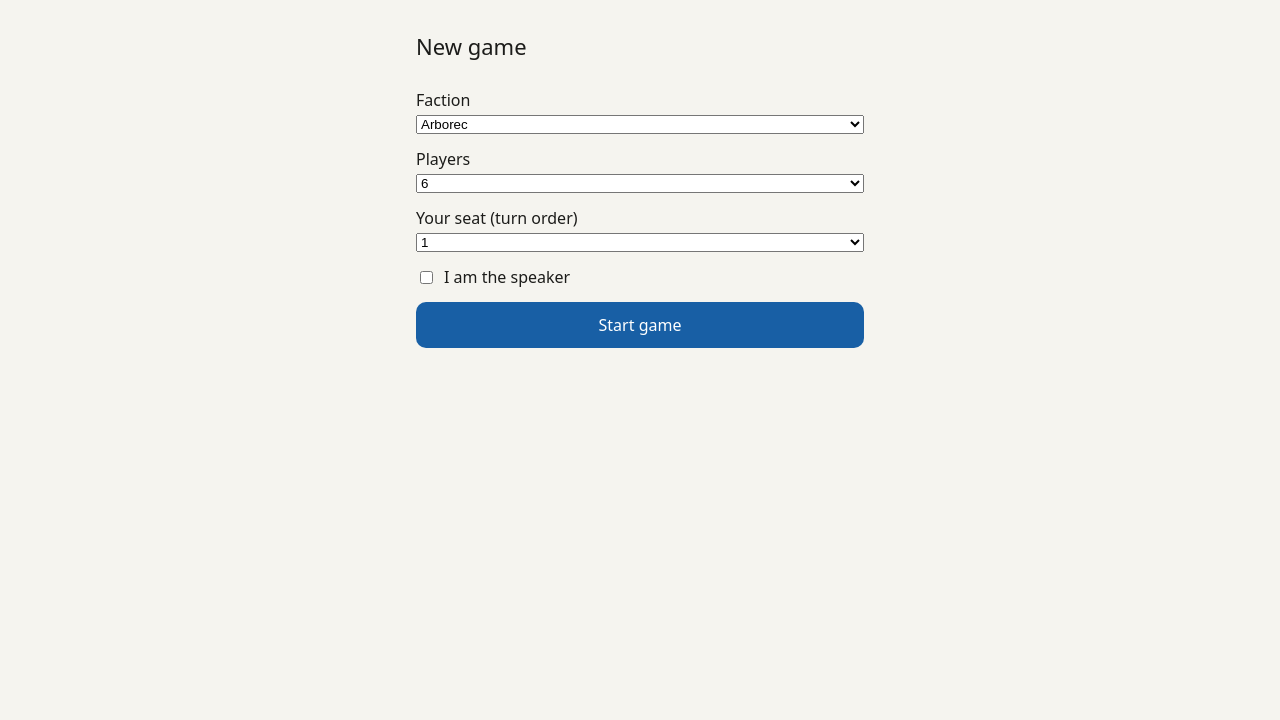
it: App › starts a game from setup and lands in the strategy phase
The width and height of the screenshot is (1280, 720).
What coordinates should you click on to do the following:
click the button "Start game"
I would click on:
 (640, 326)
Its box is 416,302 -> 864,348.
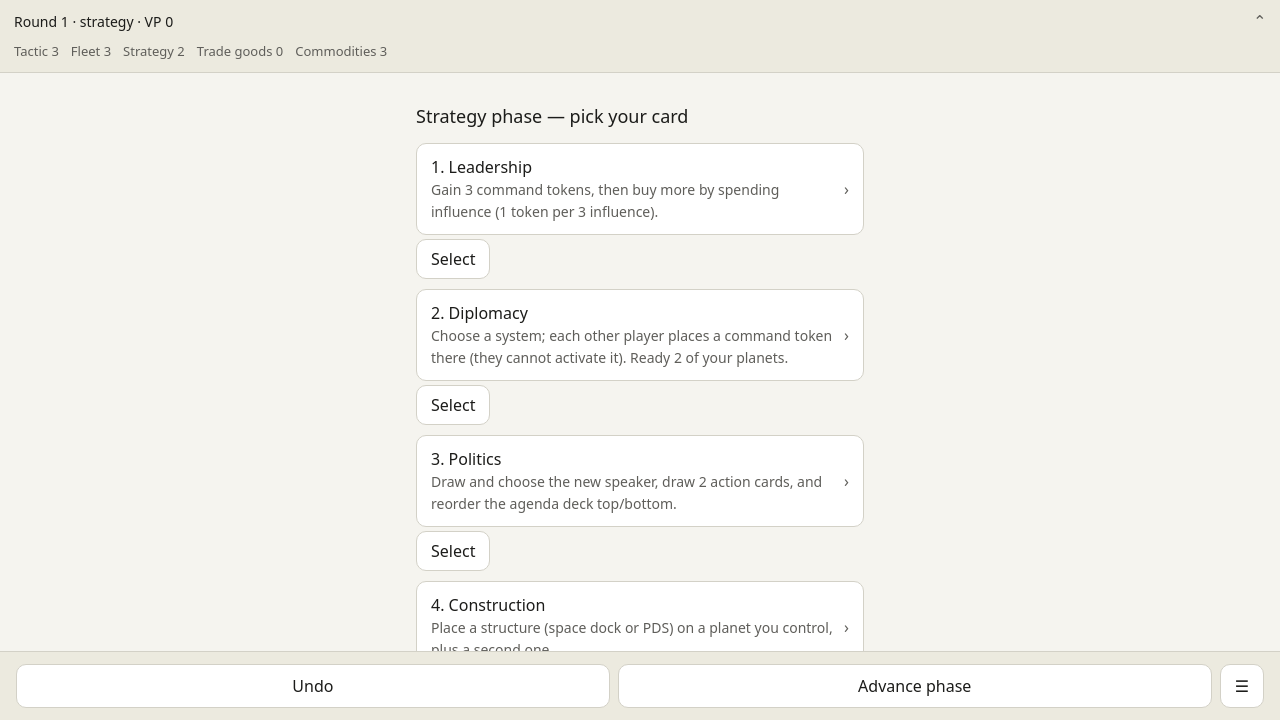
expect the heading "Strategy phase — pick your card" is shown: met, box 416,104 -> 688,128
expect the text "Round 1 · strategy · VP 0" is shown: met, box 14,12 -> 173,30
